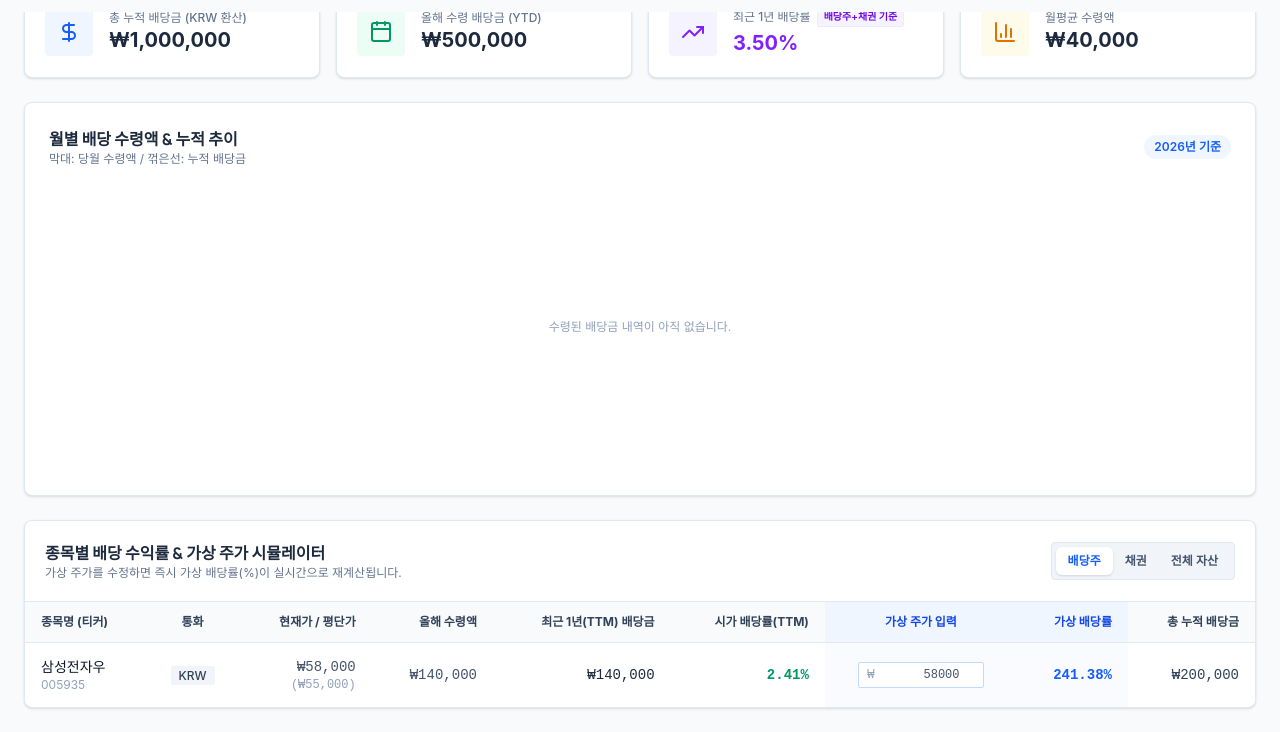
DividendAnalysisPage - 카테고리 탭 필터링 › [전체 자산] 탭 클릭 시 모든 자산이 표에 노출된다
(page scrolled)
Expected: the text "삼성전자우" is shown, [41,658,105,675]
Click the button "전체 자산".
click(1194, 561)  # box [1159,547,1230,575]
(page scrolled)
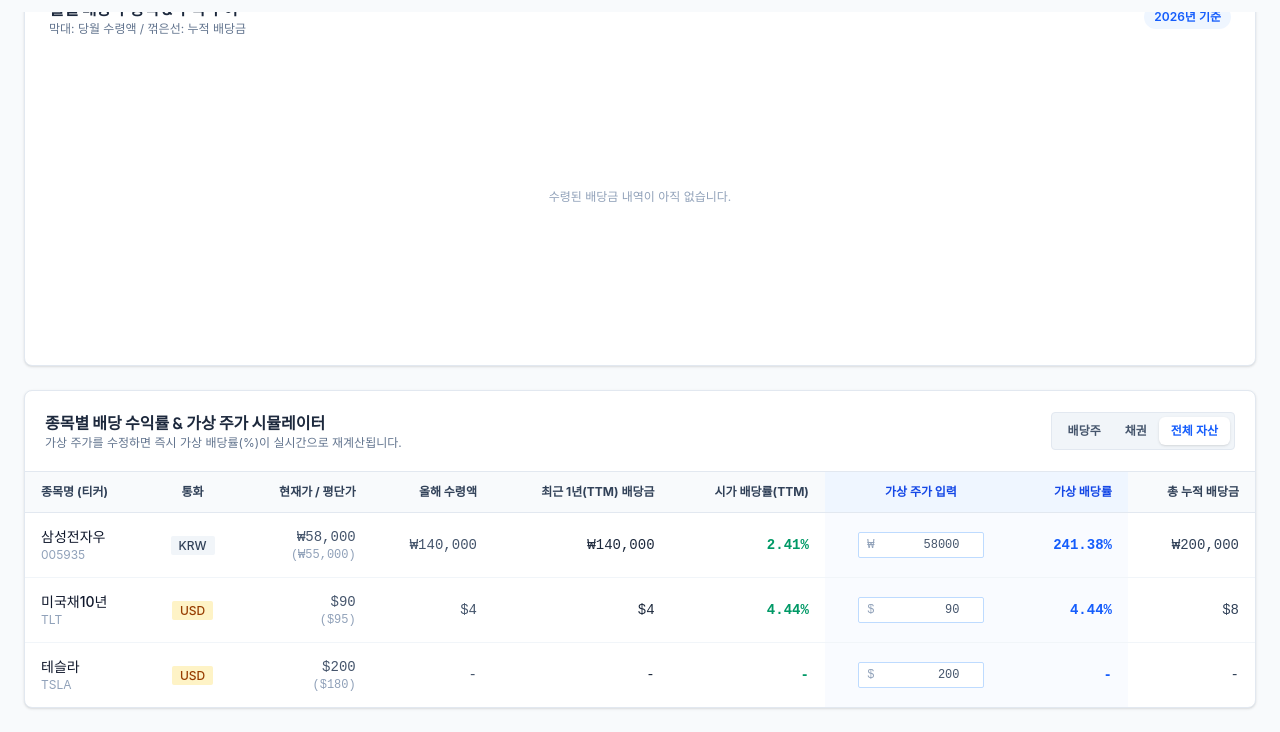
Expected: the text "삼성전자우" is shown, [41,528,105,545]
Result: the text "미국채10년" is shown at [41,593,107,610]
Result: the text "테슬라" is shown at [41,658,80,675]
